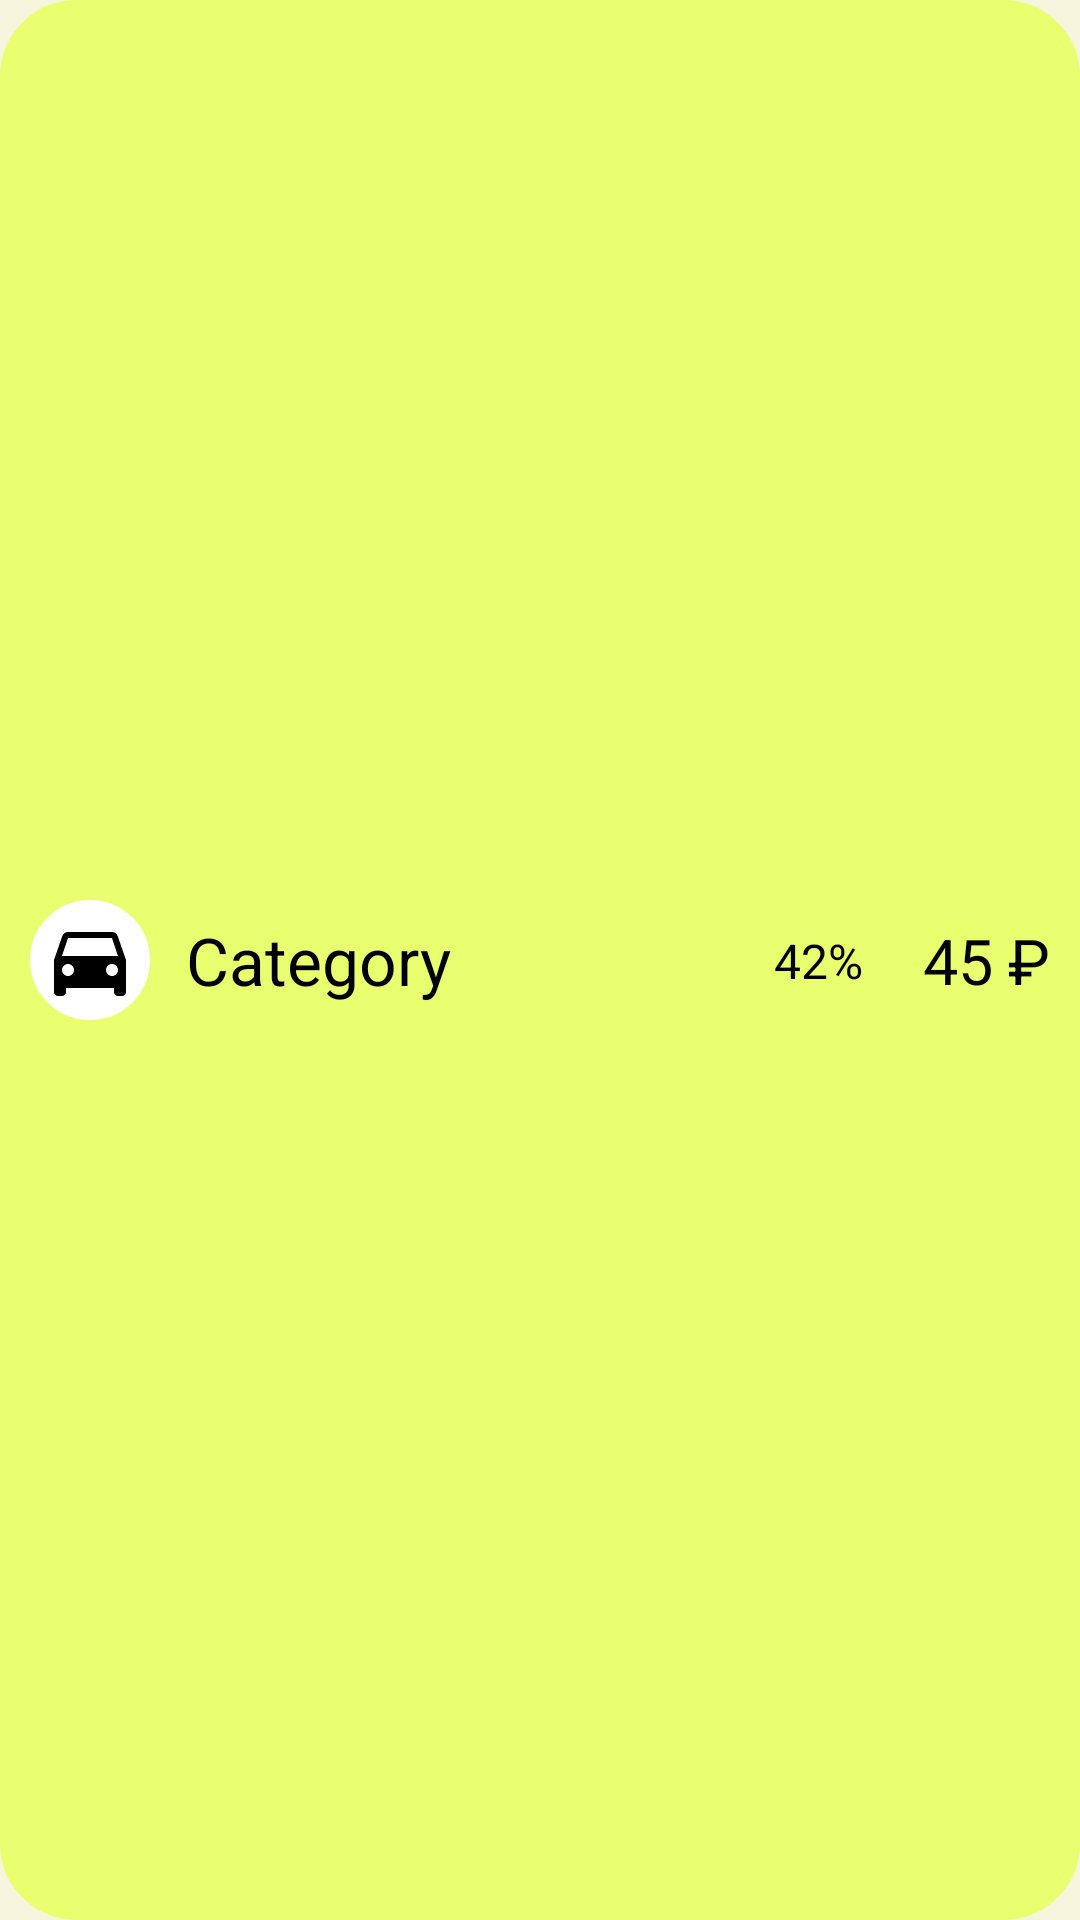

Screen size 1080 × 1920. Icon name, then its box in pixels as detection(x1, y1, x2, y2):
car: detection(30, 900, 150, 1020)
